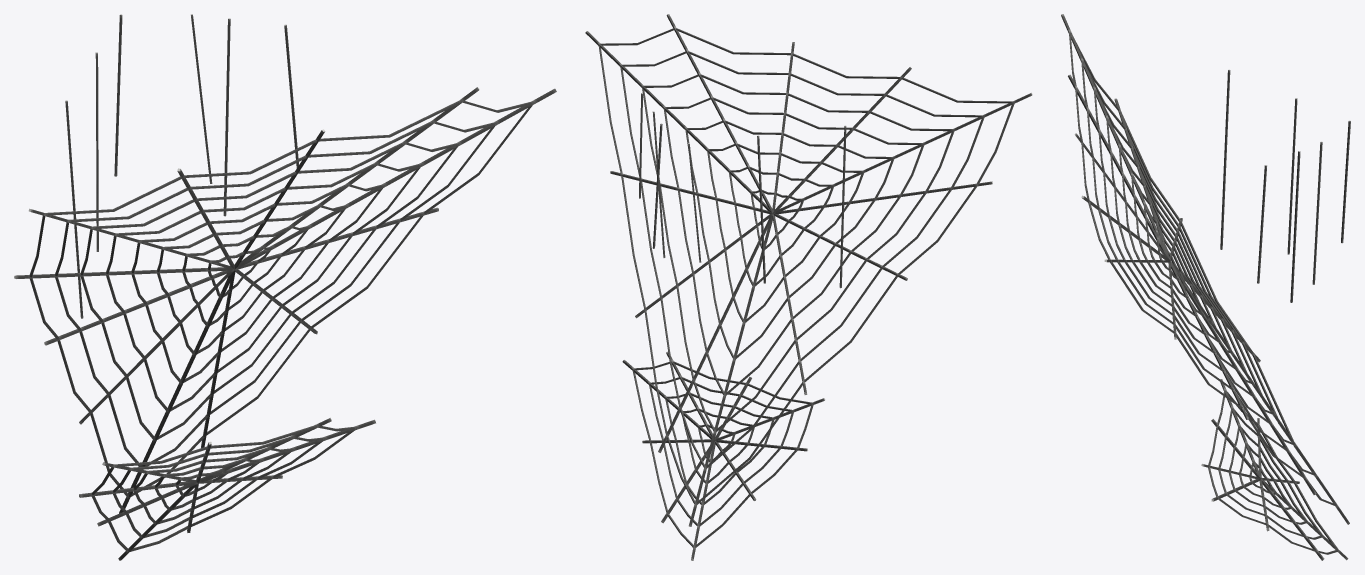
The model's file is CobwebCorner.fbx.
3 views of the same model, side by side, from view 1: azimuth 30°, elevation 25°; view 2: azimuth 150°, elevation 25°; view 3: azimuth 270°, elevation 25° (orthographic). The views are drawn at different scales.
Parts seen in each view (by area): view 1: CobwebCorner; view 2: CobwebCorner; view 3: CobwebCorner.
Boxes of the visible parts, left/top/right/bottom form: CobwebCorner: left=14, top=14, right=556, bottom=560; CobwebCorner: left=585, top=14, right=1032, bottom=560; CobwebCorner: left=1061, top=14, right=1350, bottom=560.
Bounding box in the file's own units: 269 × 252 × 150.
